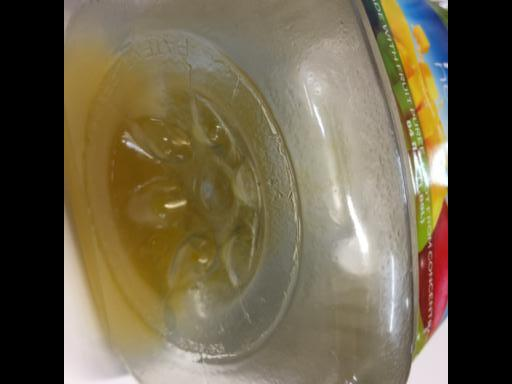glass: (121, 6, 438, 371)
